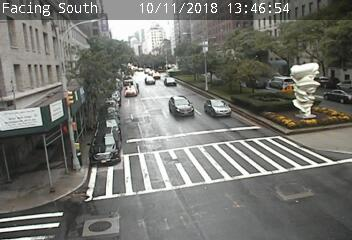car: (89, 128, 119, 164), (169, 96, 194, 116), (205, 99, 230, 117), (323, 89, 352, 104), (280, 84, 305, 98), (269, 76, 293, 89), (124, 85, 137, 97), (164, 76, 177, 86), (145, 76, 155, 85)
